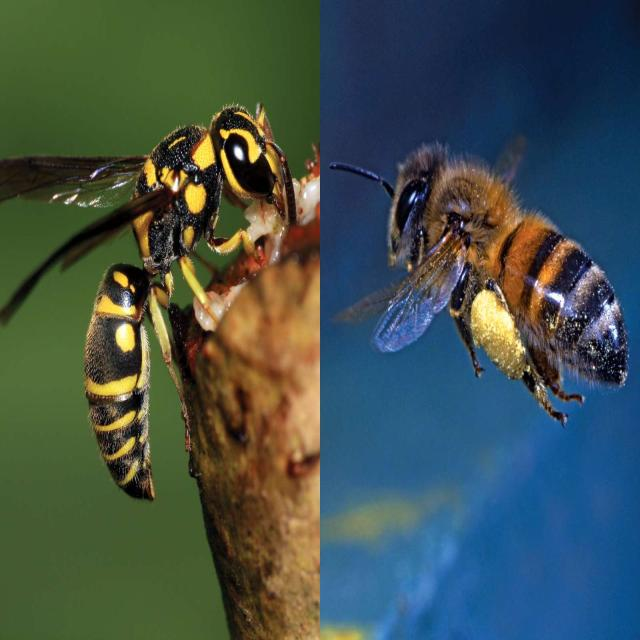Apis-mellifera-scutellata: (345, 120, 633, 432)
